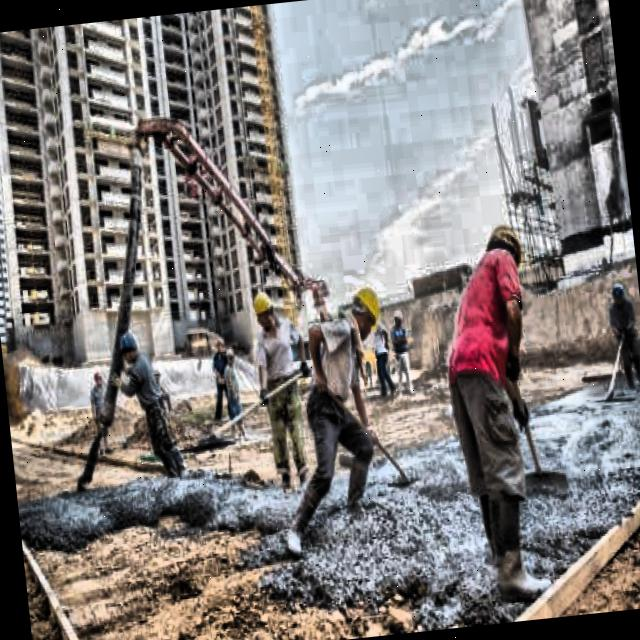helmet: (346, 277, 388, 343), (485, 220, 527, 284), (248, 286, 280, 332), (118, 324, 140, 369)
